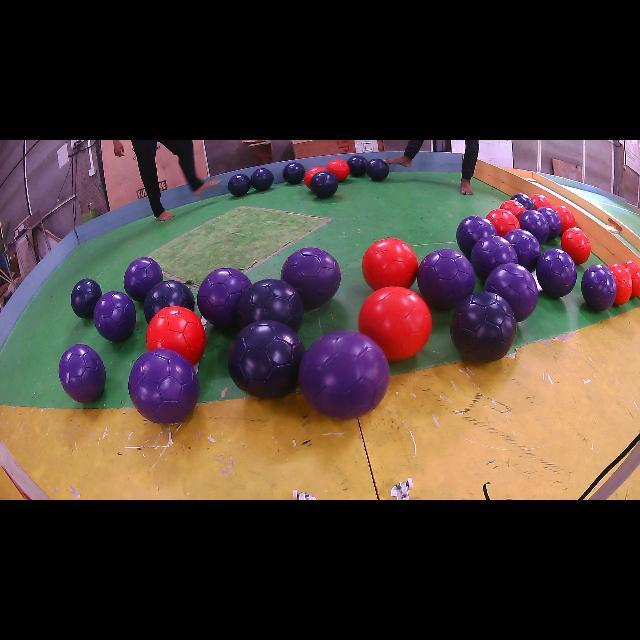B: (229, 320, 305, 399), (450, 291, 516, 362), (238, 279, 304, 332), (144, 280, 195, 322), (71, 279, 102, 319), (310, 170, 339, 199), (250, 168, 274, 191), (228, 174, 251, 196), (282, 162, 305, 184), (366, 159, 389, 181), (510, 192, 535, 210), (348, 156, 368, 178)
P: (299, 331, 390, 419), (129, 349, 200, 424), (280, 248, 341, 308), (418, 249, 475, 310), (485, 262, 539, 322), (198, 268, 251, 326), (59, 344, 106, 402), (470, 235, 518, 282), (94, 291, 136, 341), (536, 249, 578, 298), (456, 216, 498, 260), (581, 264, 616, 311), (124, 258, 162, 301), (505, 229, 541, 271), (519, 210, 550, 244), (538, 208, 561, 241)
R: (359, 286, 432, 360), (146, 306, 206, 365), (362, 238, 419, 290), (561, 228, 591, 264), (608, 264, 632, 305), (486, 209, 520, 236), (554, 205, 575, 234), (624, 260, 640, 298), (326, 159, 350, 181), (304, 166, 326, 189), (500, 200, 526, 218), (531, 194, 552, 210)
